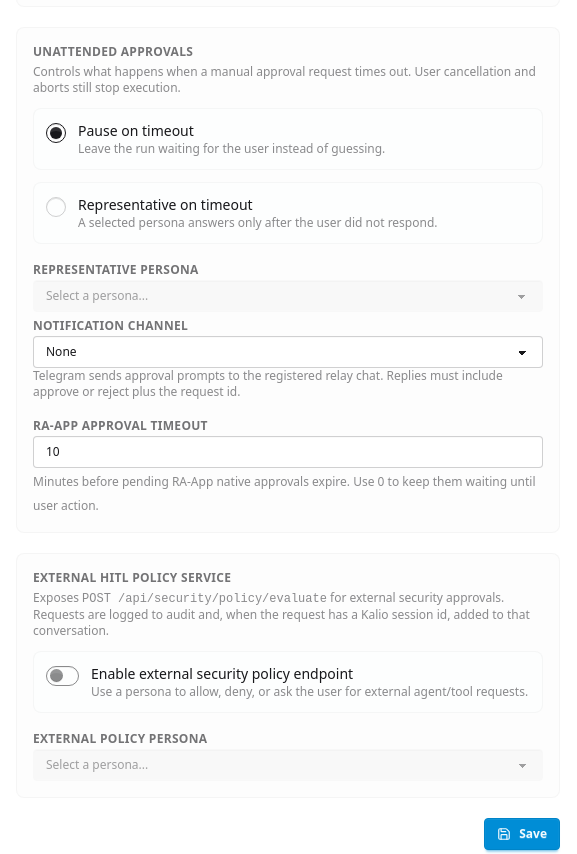
Test: HITLSettingsPanel › hydrates saved Jev and hard rules and preserves readonly Allow rules
This screenshot has width=577, height=854.
(page scrolled)
Click the button "Save". click: (522, 834)
box: [484,818,560,850]
(page scrolled)
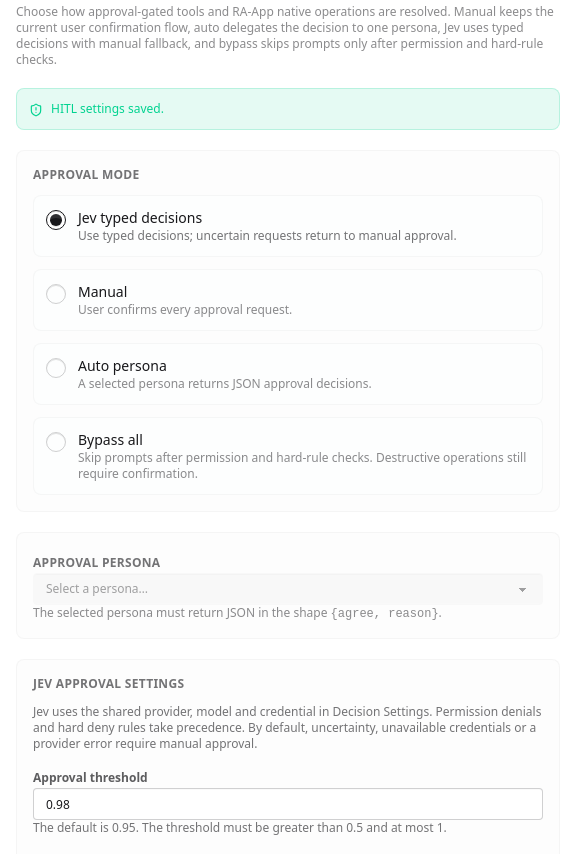
Expected: the text "HITL settings saved." is shown, [51,101,164,117]
